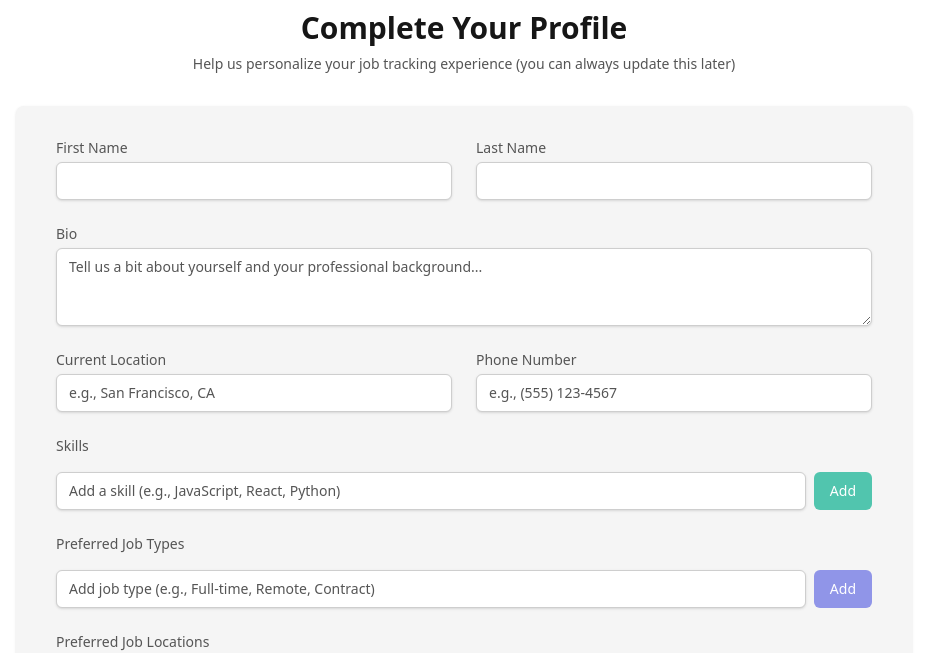
ProfileSetup Component › should add and remove skills
Add a skill
Type "JavaScript" into the field with placeholder "Add a skill (e.g., JavaScript, React, Python)" at (431, 491), box 56,472 -> 806,510
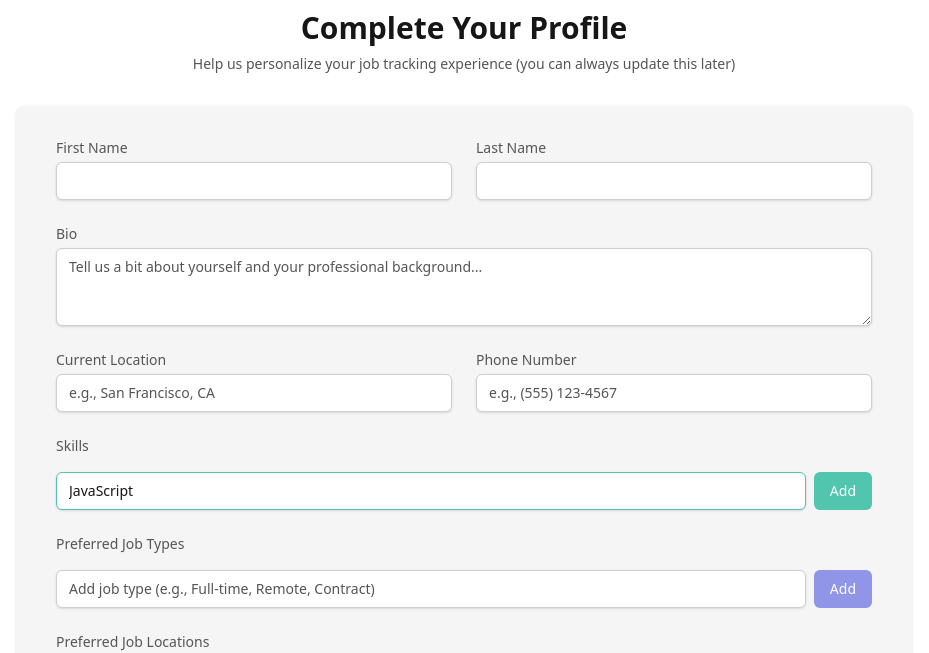
Click the 1st button "Add" at (843, 491), box 814,472 -> 872,510
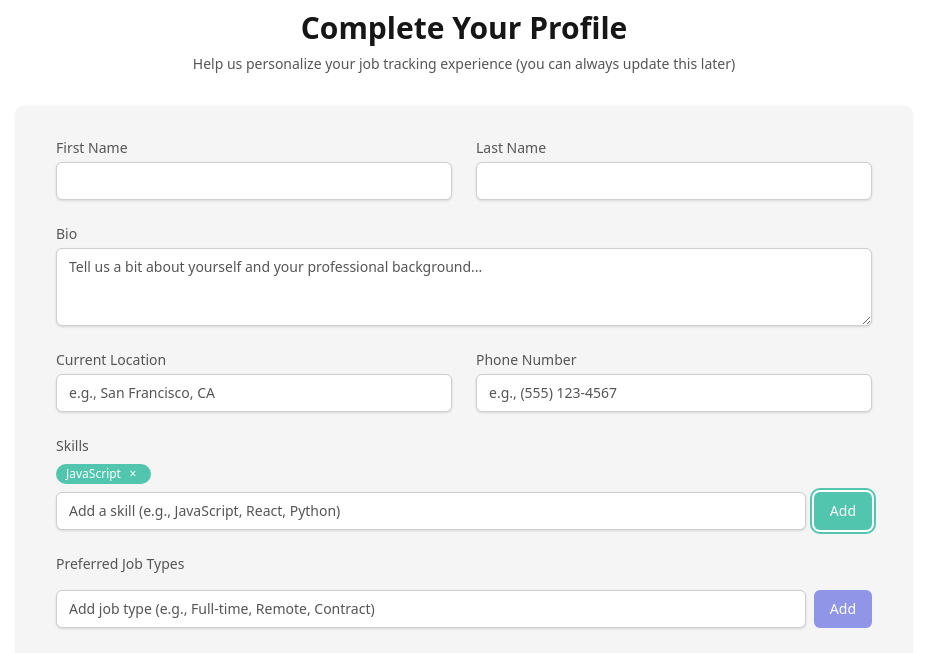
Check: the text "JavaScript" is shown, box 66,465 -> 121,482
Check: the field with placeholder "Add a skill (e.g., JavaScript, React, Python)" is empty
Add another skill using Enter key
Type "React" into the field with placeholder "Add a skill (e.g., JavaScript, React, Python)" at (431, 511), box 56,492 -> 806,530
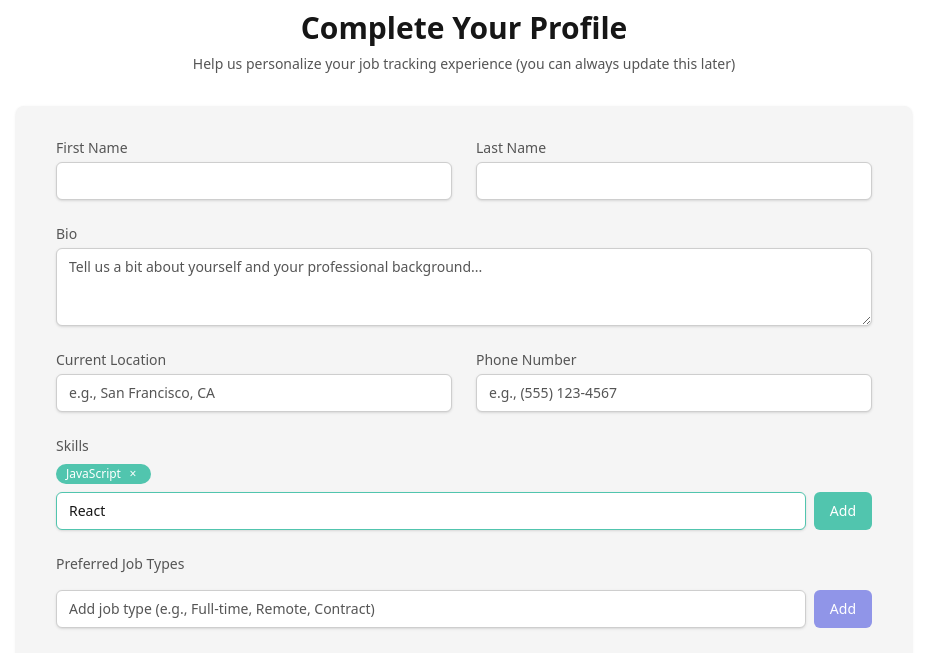
Press Enter
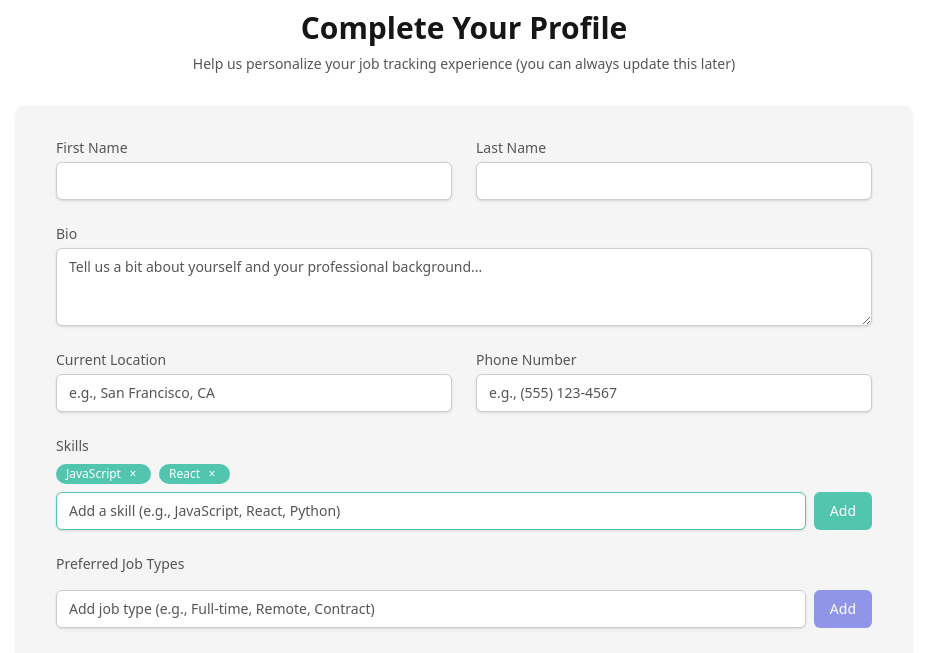
Check: the text "React" is shown, box 169,465 -> 200,482
Remove a skill
Click the button "×" next to "JavaScript" at (133, 474), box 125,466 -> 141,482
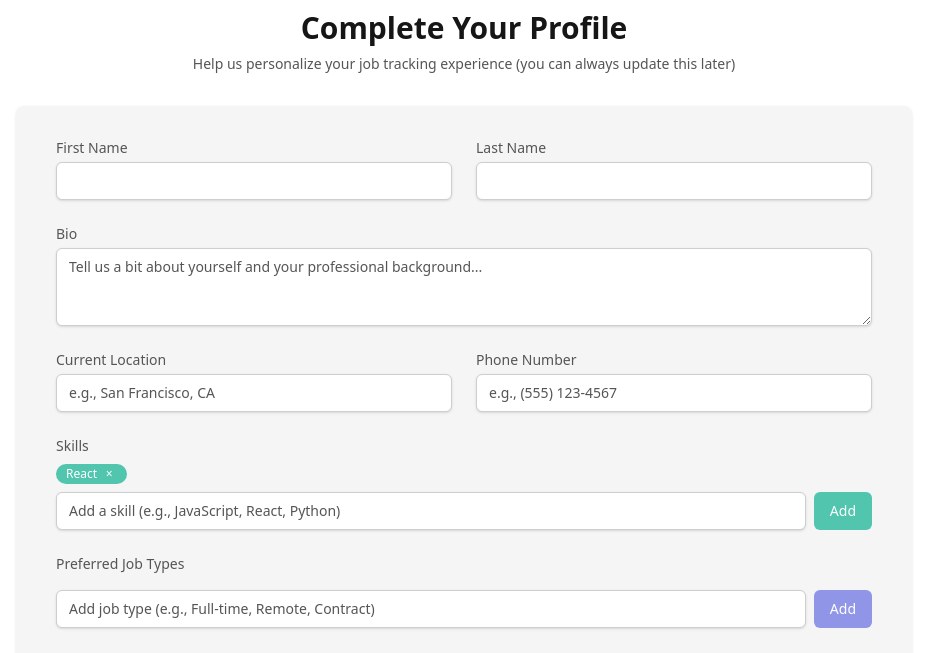
Check: the text "React" is shown, box 66,465 -> 97,482
